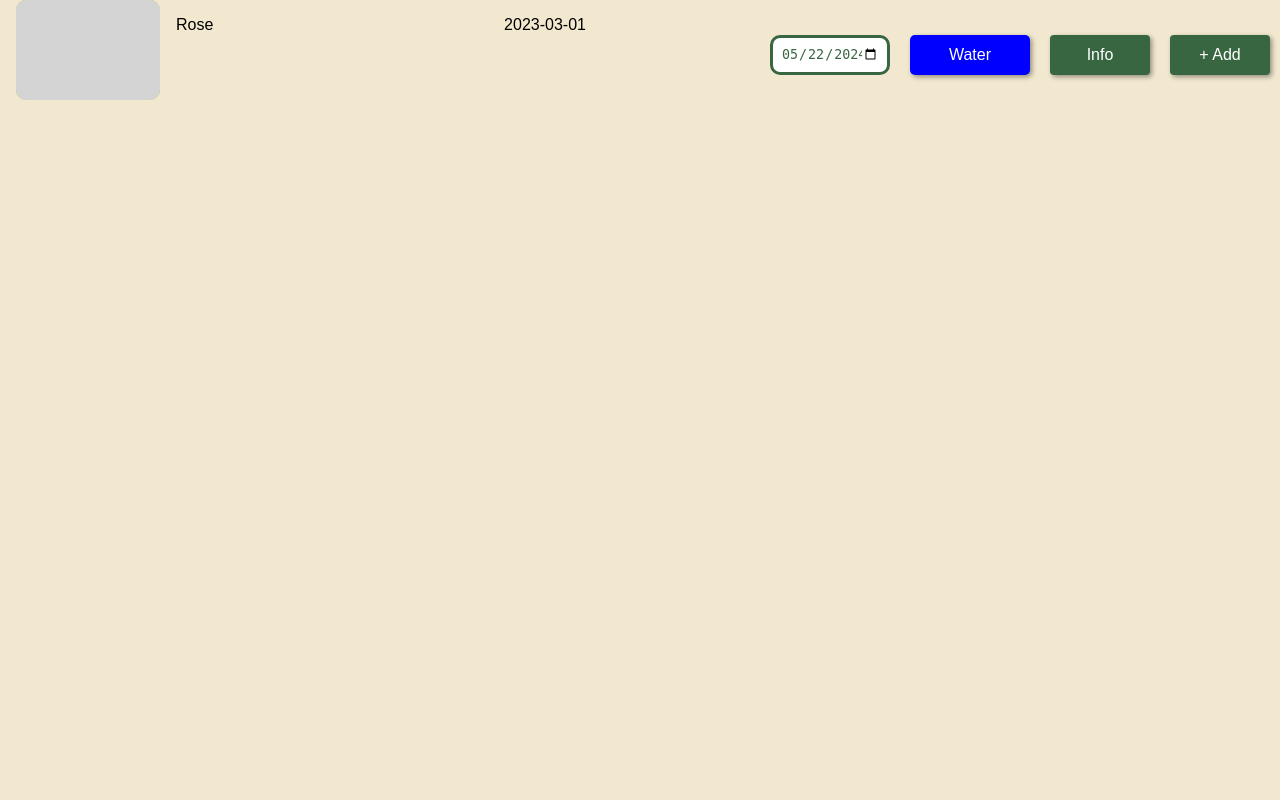
Flower Component › toggles modal on Info button click
The width and height of the screenshot is (1280, 800).
Click the button "Info" at point(1100, 55), box [1050,35,1150,75]
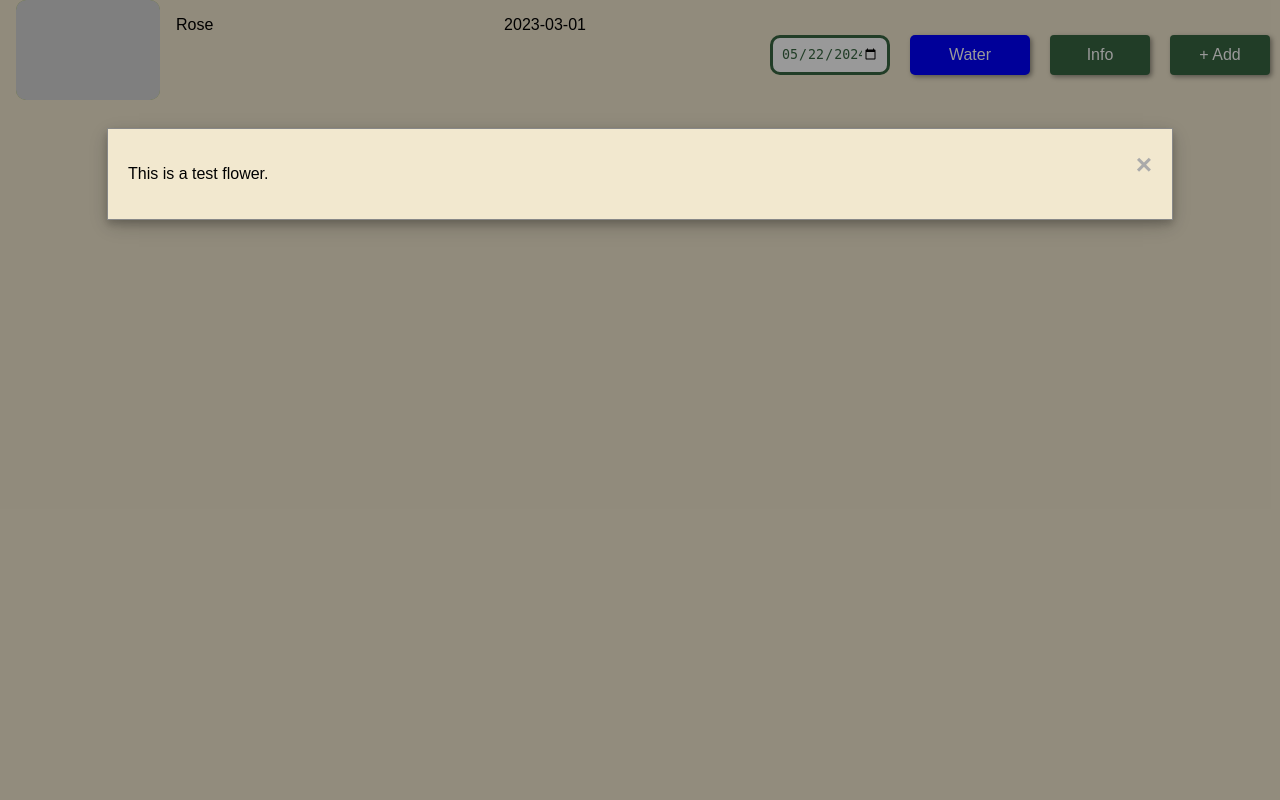
expect the text "This is a test flower." is shown: met, box [128,165,268,182]
Click the text "×" at point(1144, 165), box [1136,149,1152,181]
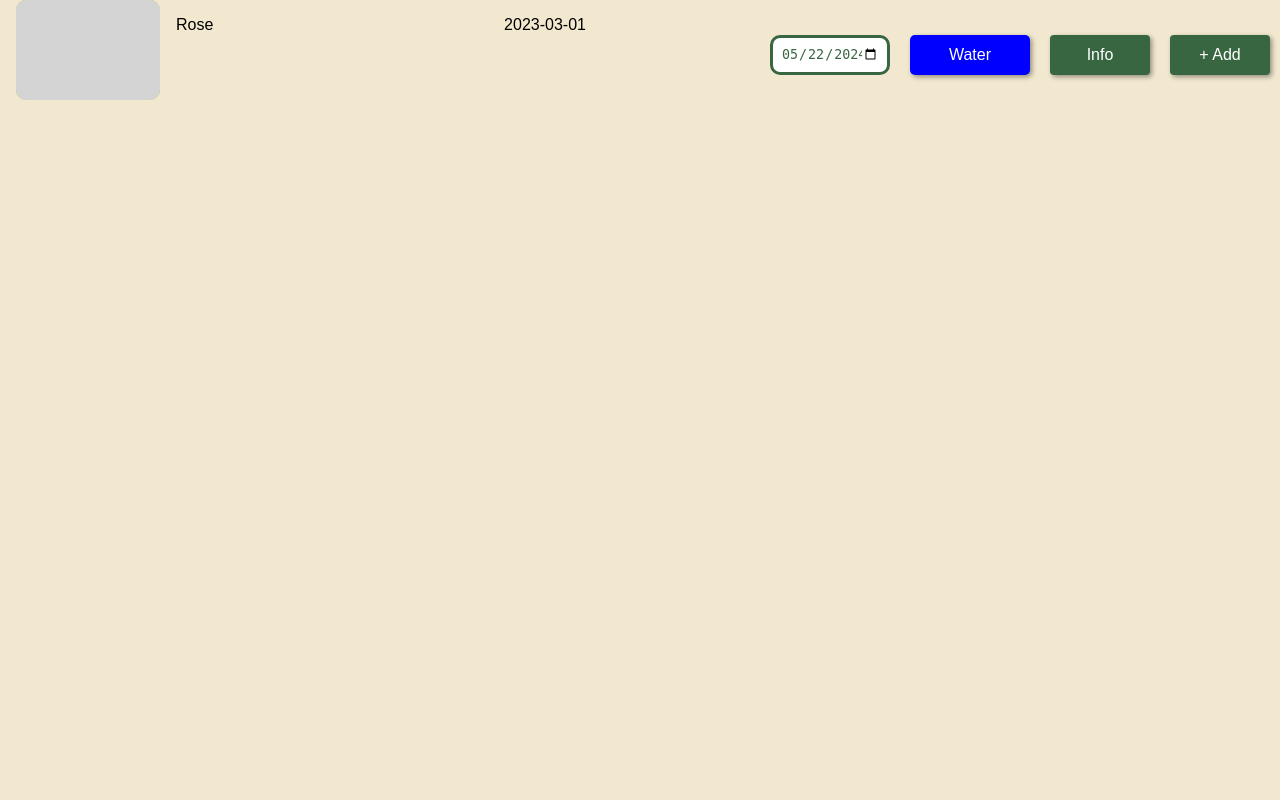
expect the text "This is a test flower." is gone: met
